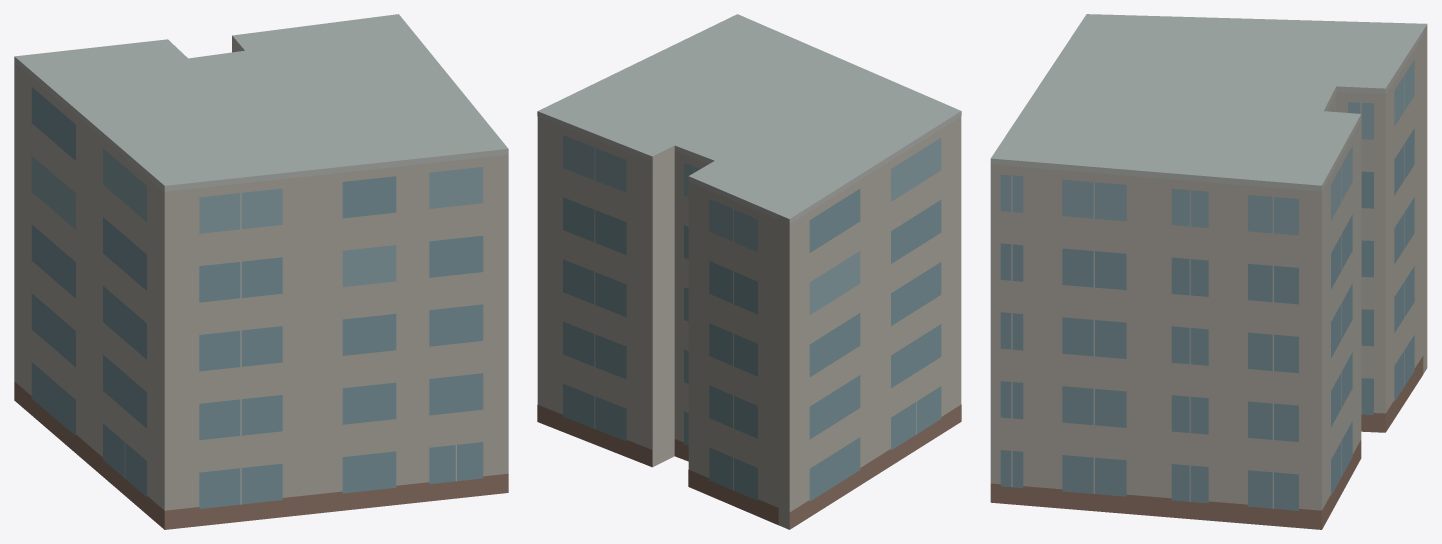
The model's file is survey-upis-33017903.glb.
3 renders of one model, left to right at view 1: azimuth 30°, elevation 25°; view 2: azimuth 150°, elevation 25°; view 3: azimuth 270°, elevation 25°, orthographic. The views are drawn at different scales.
Visible parts, largest first — view 1: survey-upis-33017903.tmp; view 2: survey-upis-33017903.tmp; view 3: survey-upis-33017903.tmp.
Part boxes in pixels (box(x1,y1,x2,y2)): survey-upis-33017903.tmp: box(14, 14, 508, 529); survey-upis-33017903.tmp: box(537, 14, 961, 529); survey-upis-33017903.tmp: box(990, 14, 1427, 529).
Bounding box in the file's own units: 15.31 × 14.3 × 16.46.
